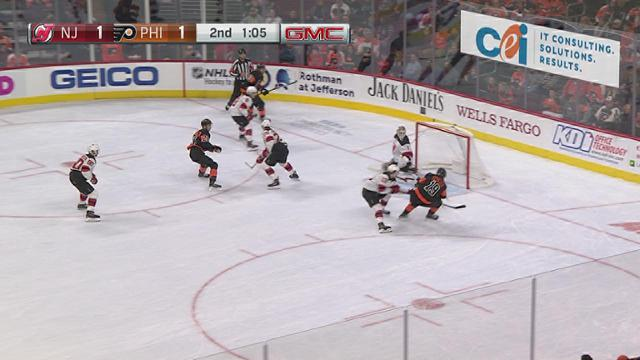geico: (49, 66, 161, 90)
